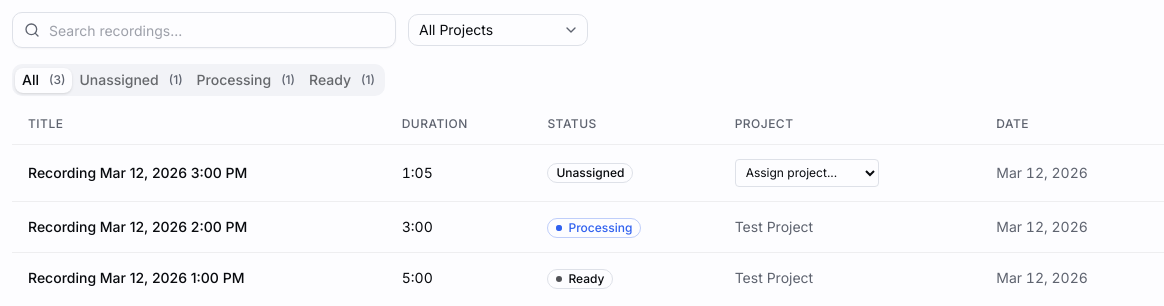
Test: RecordingHub › switching tabs filters the table by status
The width and height of the screenshot is (1164, 306).
Expected: the text "Recording Mar 12, 2026 3:00 PM" is shown, [12,144,386,201]
# Click Unassigned tab
Click the tab "Unassigned (1)": click(131, 80) [72,68,190,92]
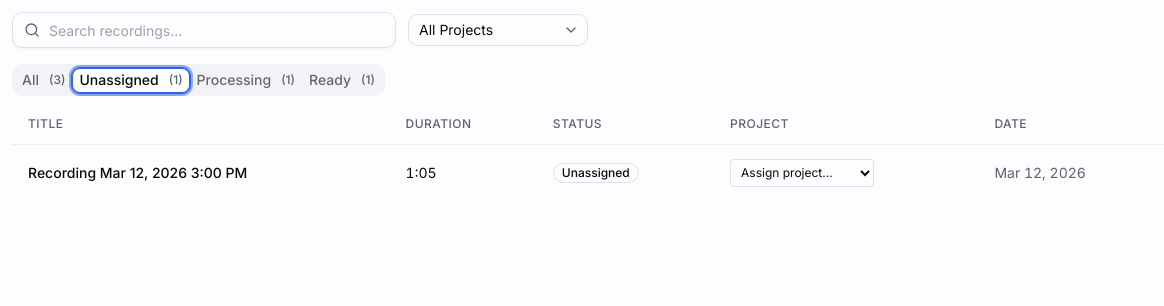
Expected: the text "Recording Mar 12, 2026 3:00 PM" is shown, [12,144,390,200]
Expected: the text "Recording Mar 12, 2026 2:00 PM" is gone
